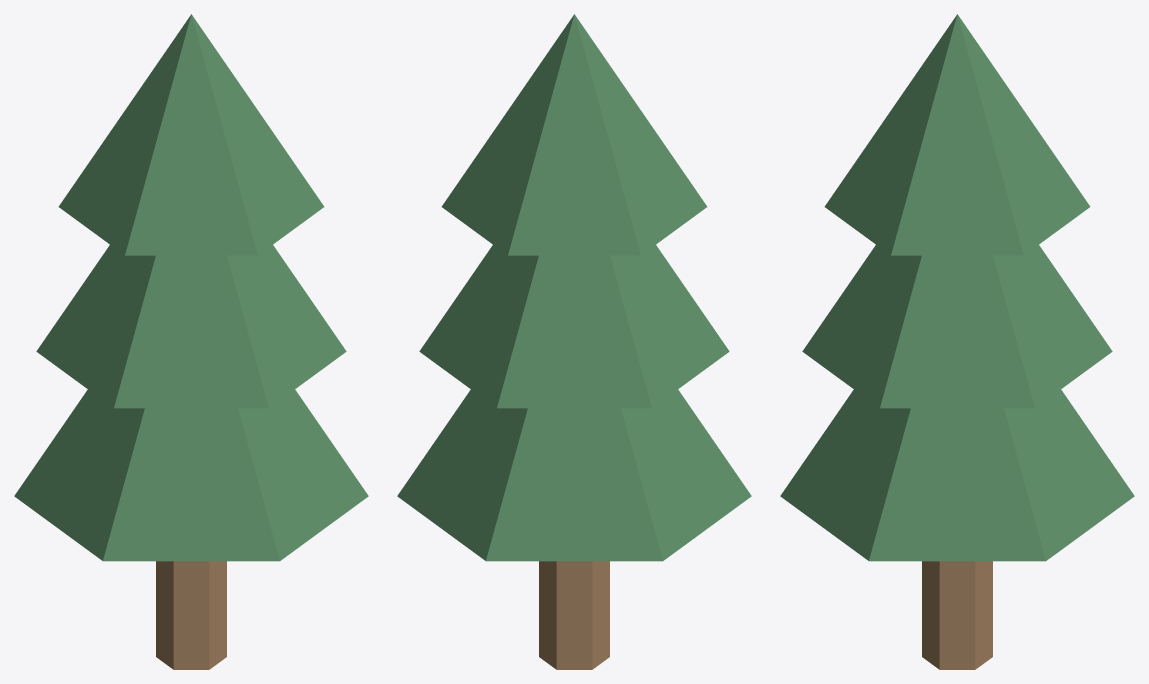
Rendered from tree.glb.
The picture shows the model from 3 angles, left to right: view 1: azimuth 30°, elevation 25°; view 2: azimuth 150°, elevation 25°; view 3: azimuth 270°, elevation 25°; orthographic projection.
Parts seen in each view (by area): view 1: Branches, Trunk; view 2: Branches, Trunk; view 3: Branches, Trunk.
Boxes of the visible parts, x1,y1,x2,y2 form: Branches: [14, 14, 368, 561]; Trunk: [156, 561, 226, 669]; Branches: [397, 14, 751, 561]; Trunk: [539, 561, 609, 669]; Branches: [780, 14, 1134, 561]; Trunk: [922, 561, 992, 669].
Size of the model in its own units: 1.73 by 4 by 2.
